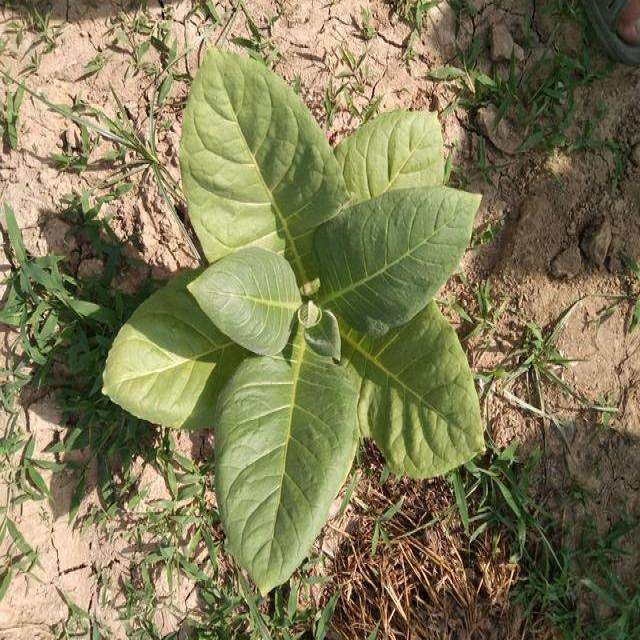crop: (95, 38, 500, 592)
